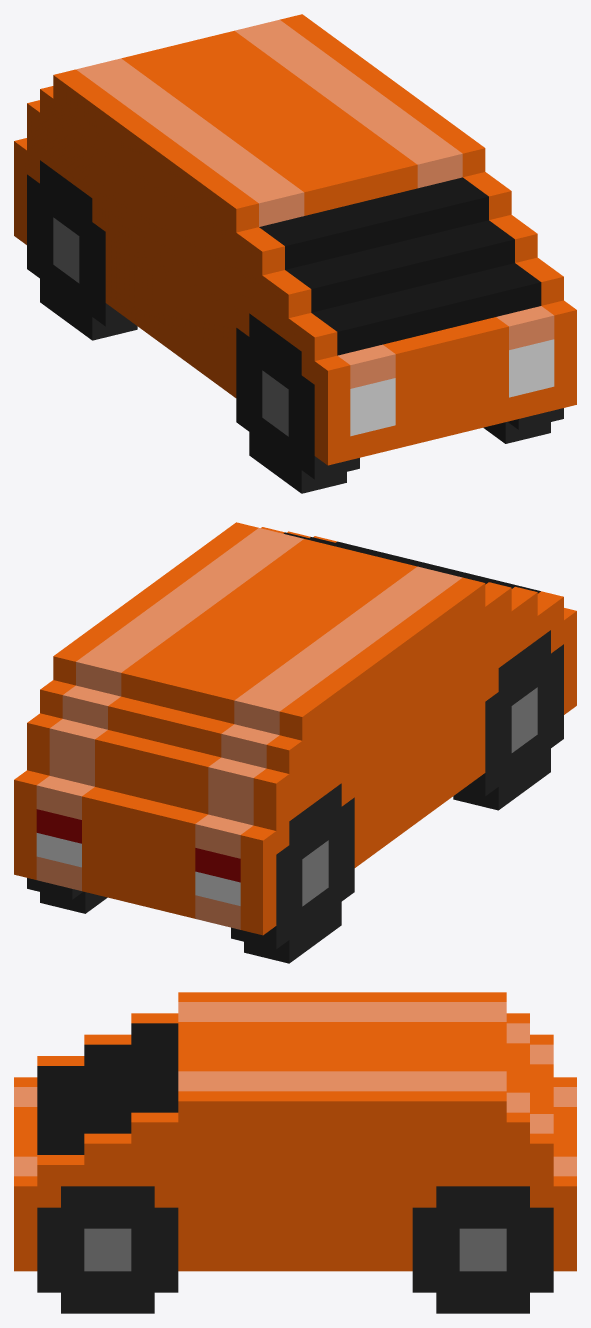
File: sports_orange.obj
3 renders of one model, top to bottom at view 1: azimuth 30°, elevation 25°; view 2: azimuth 150°, elevation 25°; view 3: azimuth 270°, elevation 25°, orthographic. The views are drawn at different scales.
Size of the model in its own units: 1.1 by 1 by 2.4.
Materials: 1 (1 with a texture image).
